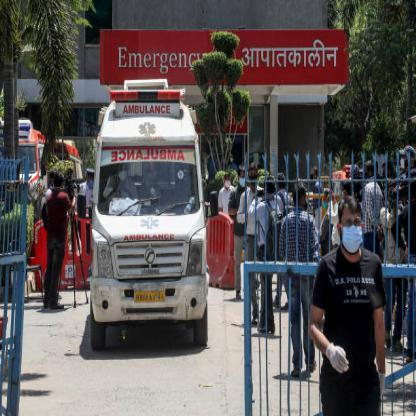Ambulance: (109, 148, 189, 165)
